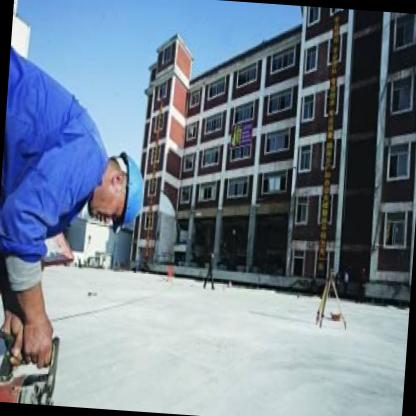bee: (84, 146, 149, 228)
